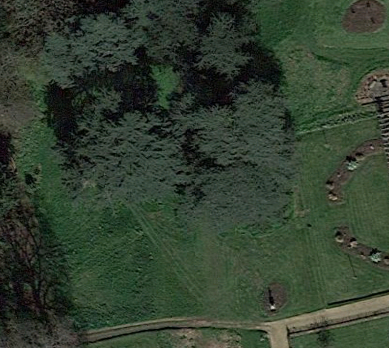tree: (181, 89, 315, 241), (68, 97, 182, 214)
